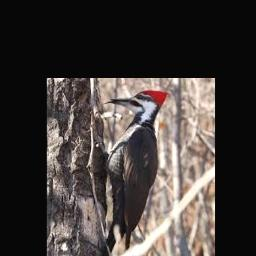Woodpecker: (103, 90, 168, 256)
